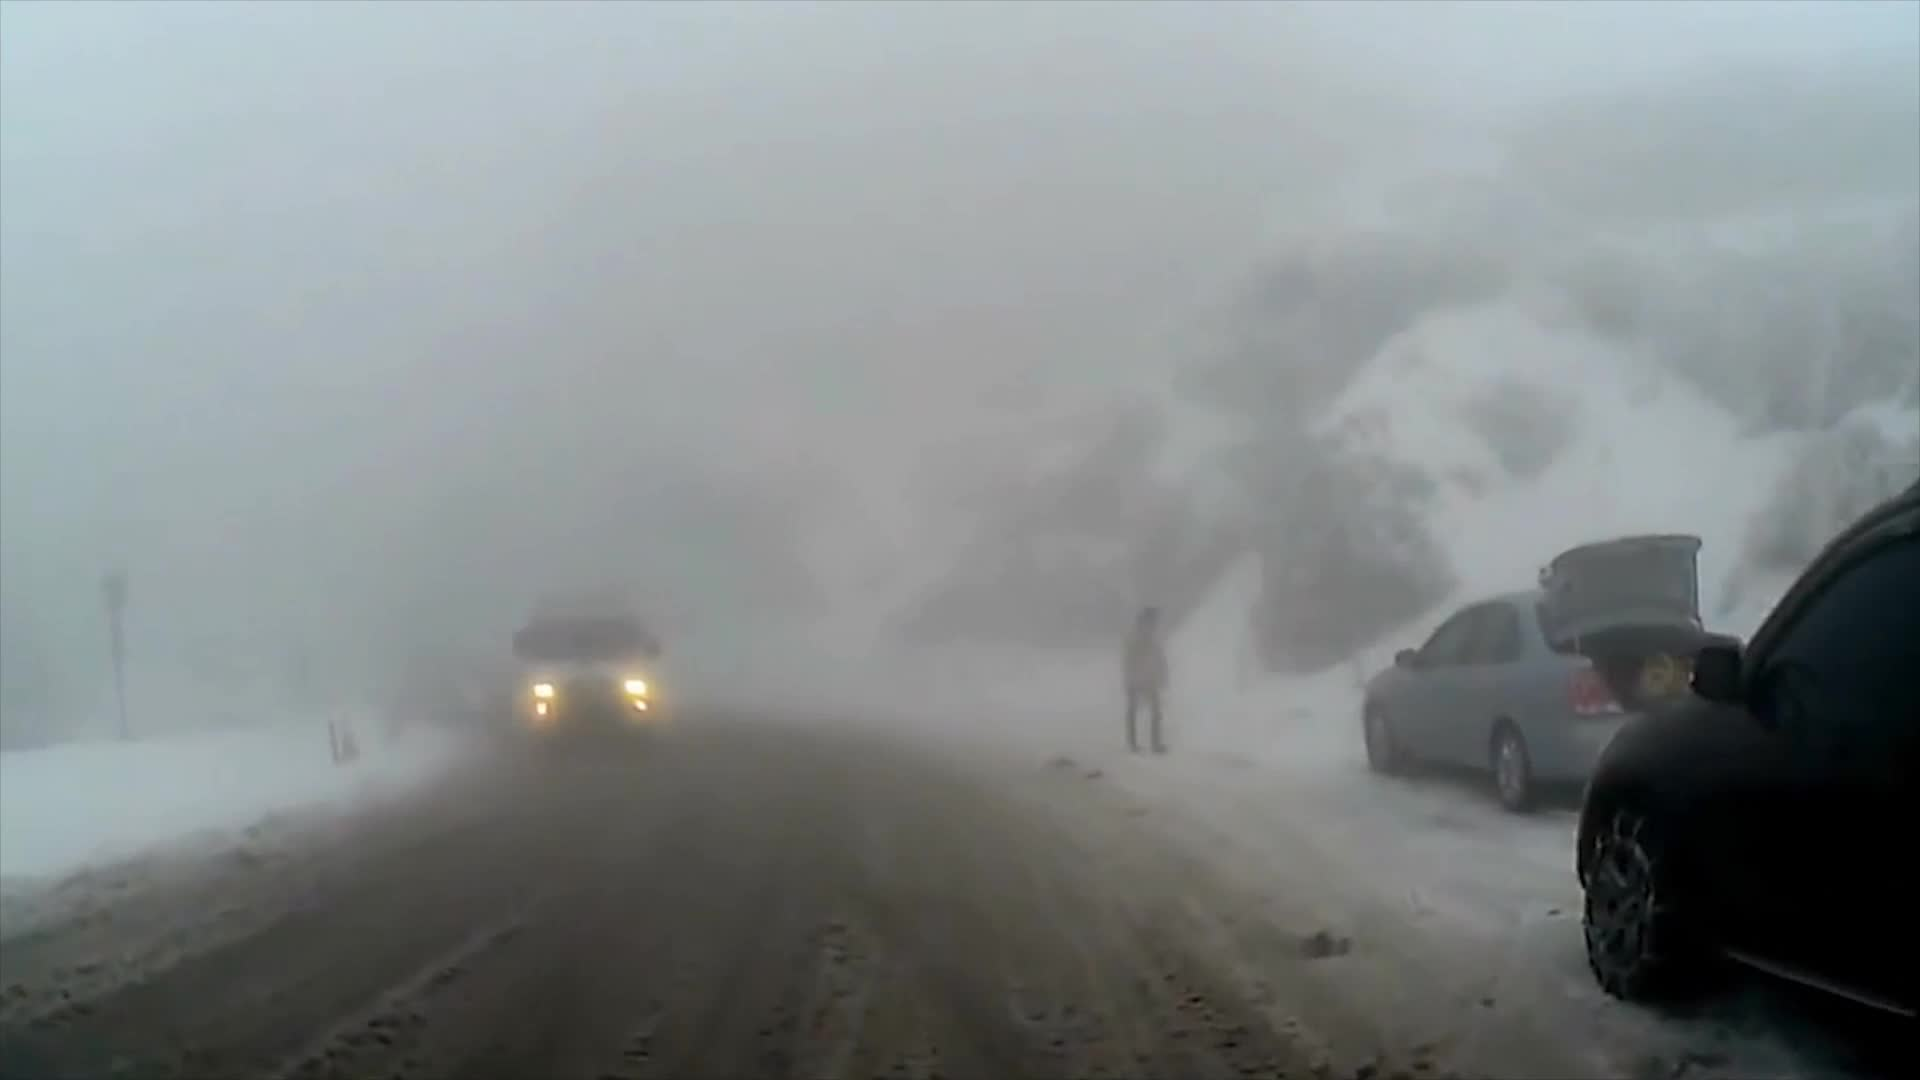pedestrian: (1121, 607, 1174, 754)
vehicle: (1579, 476, 1920, 1080), (1363, 530, 1742, 819), (511, 593, 666, 762)
